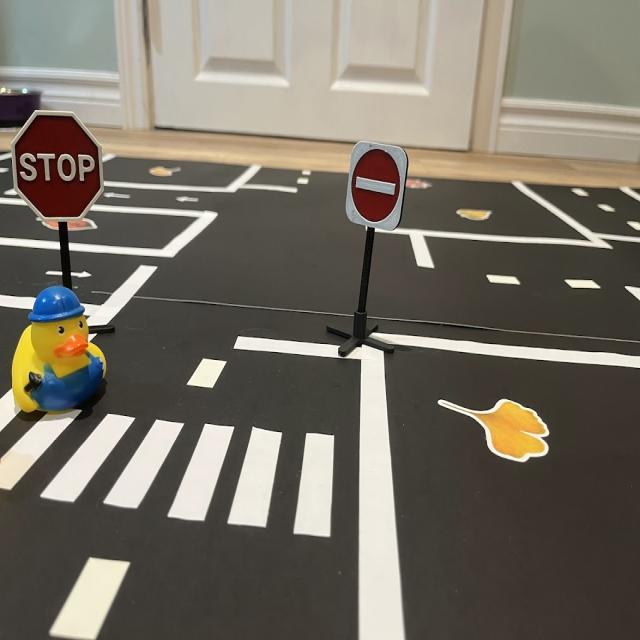duck_specialty: (12, 288, 108, 418)
road_crosswalk: (1, 385, 342, 545)
road_oneway: (172, 191, 208, 208), (101, 193, 142, 201)
sign_noentry: (346, 144, 410, 234)
sign_stop: (15, 111, 103, 218)
